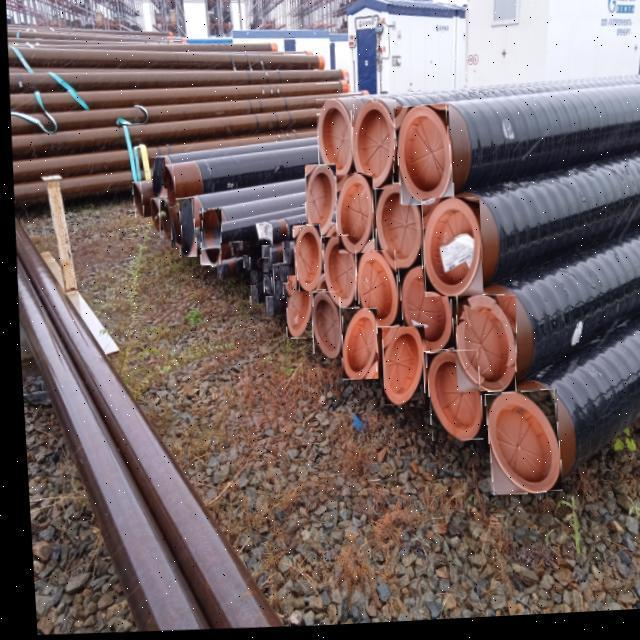pipe: (479, 394, 556, 500), (391, 108, 451, 209), (450, 299, 511, 396), (419, 202, 478, 301), (420, 354, 477, 445), (394, 270, 449, 356), (348, 102, 394, 193), (372, 187, 418, 274), (352, 254, 395, 331), (378, 331, 419, 409), (314, 101, 351, 181), (333, 177, 370, 256), (337, 311, 373, 383), (320, 239, 353, 311), (289, 227, 321, 294), (303, 169, 333, 240), (307, 294, 337, 362), (283, 278, 308, 341), (173, 199, 193, 259), (197, 210, 218, 267), (159, 166, 173, 208), (149, 158, 163, 199), (166, 205, 179, 248), (157, 200, 168, 239), (130, 182, 141, 219), (148, 200, 156, 232), (259, 248, 268, 269), (259, 277, 268, 297), (274, 266, 283, 284), (246, 287, 254, 307), (270, 282, 278, 300), (262, 299, 269, 318), (279, 246, 286, 265), (191, 229, 197, 251), (278, 285, 286, 300), (269, 266, 276, 283), (212, 263, 219, 279), (240, 257, 247, 271), (259, 260, 265, 275), (247, 272, 253, 286), (228, 244, 233, 256), (233, 243, 239, 252), (225, 244, 229, 249)
